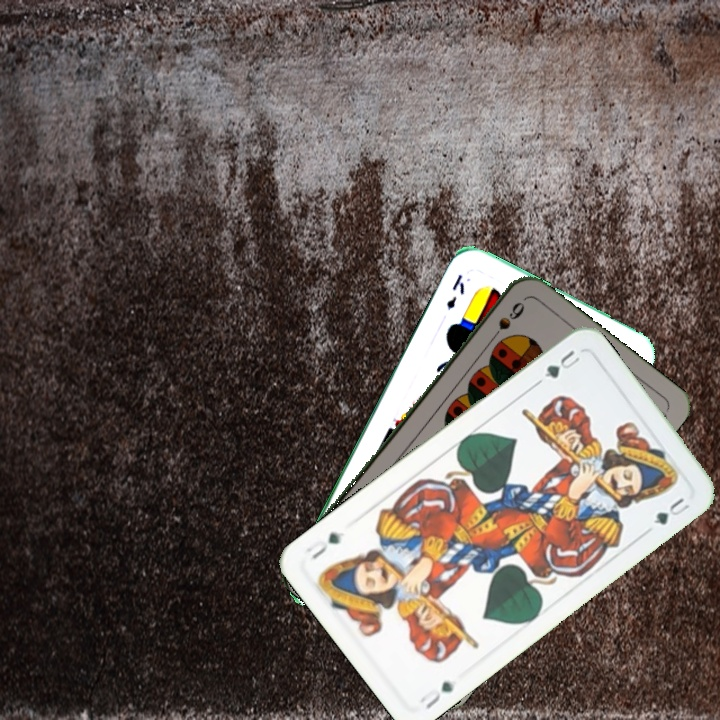EK: (442, 270, 468, 312)
GU: (533, 345, 583, 387), (416, 677, 458, 712)
S9: (484, 298, 527, 346)
